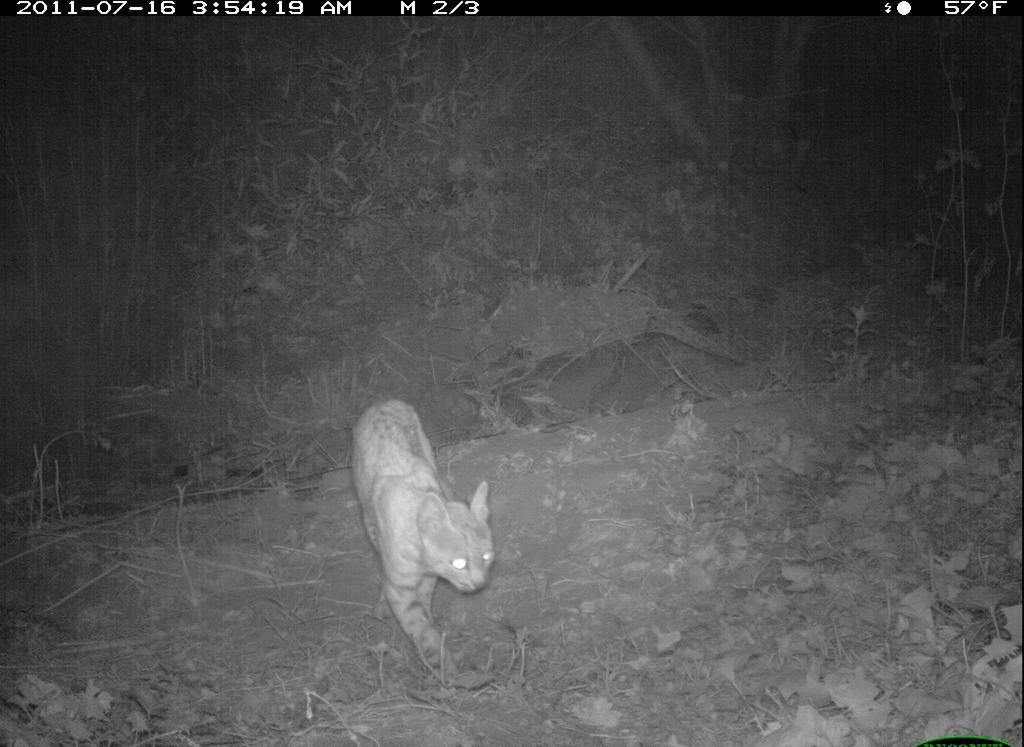bobcat: (342, 393, 528, 697)
